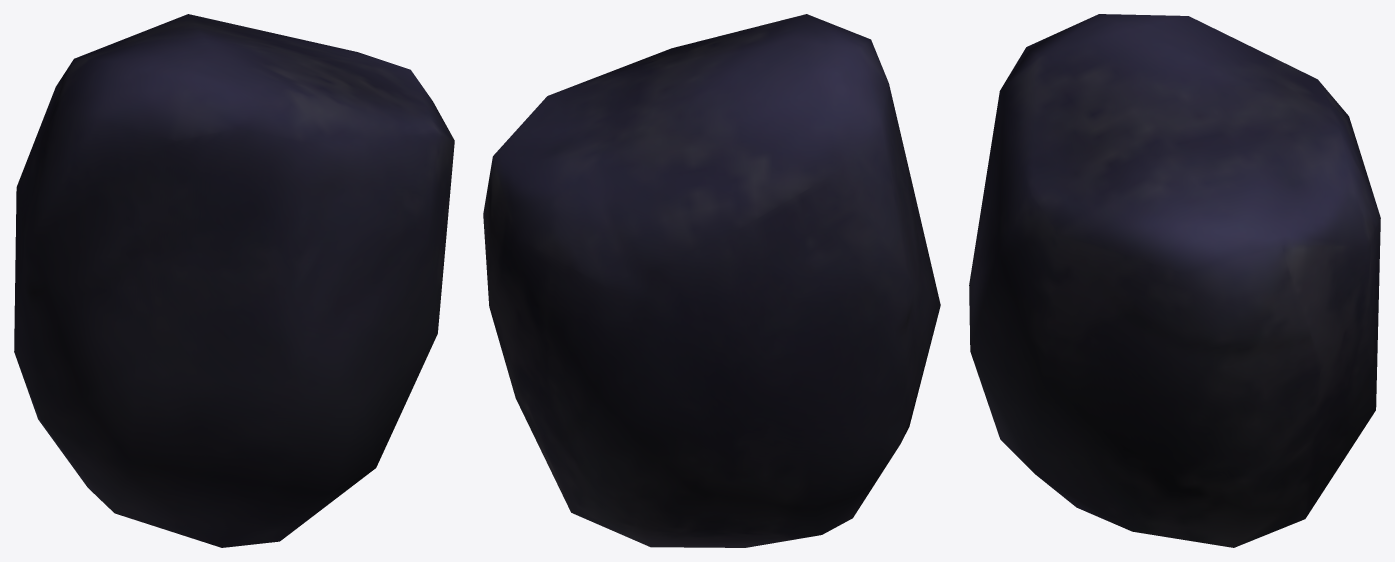
The model's file is SM_Gem_Obsidian_Piece_003.fbx.
3 views of the same model, side by side, from view 1: azimuth 30°, elevation 25°; view 2: azimuth 150°, elevation 25°; view 3: azimuth 270°, elevation 25° (orthographic). The views are drawn at different scales.
Visible parts, largest first — view 1: SM_Gem_Obsidian_Piece_003; view 2: SM_Gem_Obsidian_Piece_003; view 3: SM_Gem_Obsidian_Piece_003.
Boxes of the visible parts, <box> form: SM_Gem_Obsidian_Piece_003: <box>14,14,454,547</box>; SM_Gem_Obsidian_Piece_003: <box>483,14,940,547</box>; SM_Gem_Obsidian_Piece_003: <box>969,14,1380,547</box>.
Bounding box in the file's own units: 13.57 × 16.26 × 12.47.
